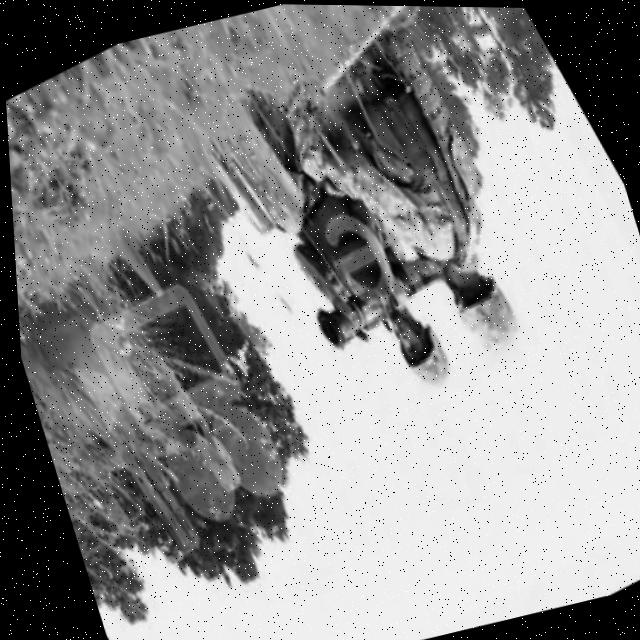rocket: (298, 250, 454, 355)
